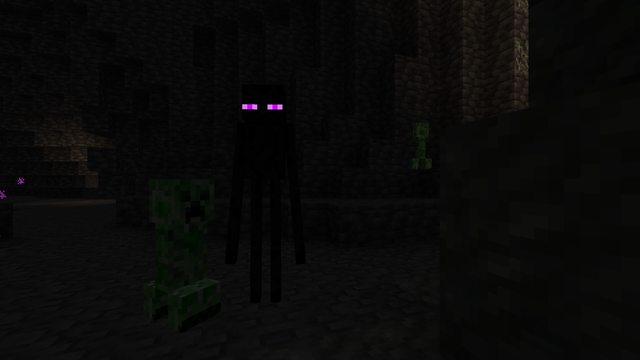creepers: (146, 172, 210, 331), (411, 119, 430, 169)
endermens: (241, 73, 292, 315)
